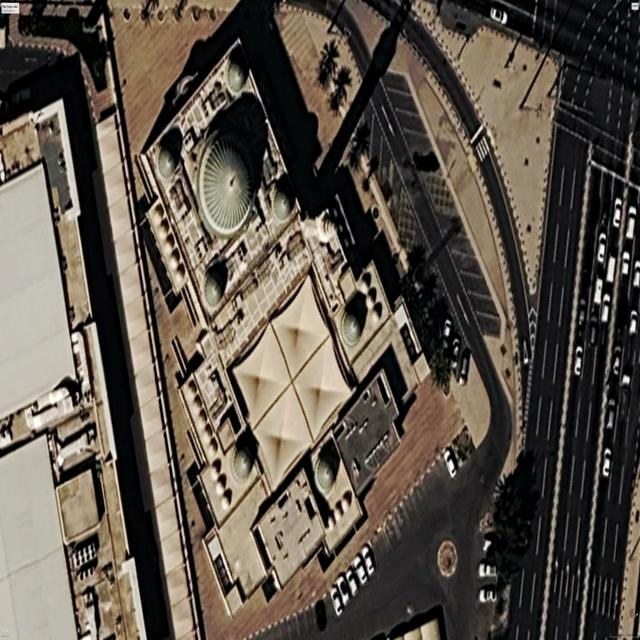mosque: (138, 40, 427, 618)
